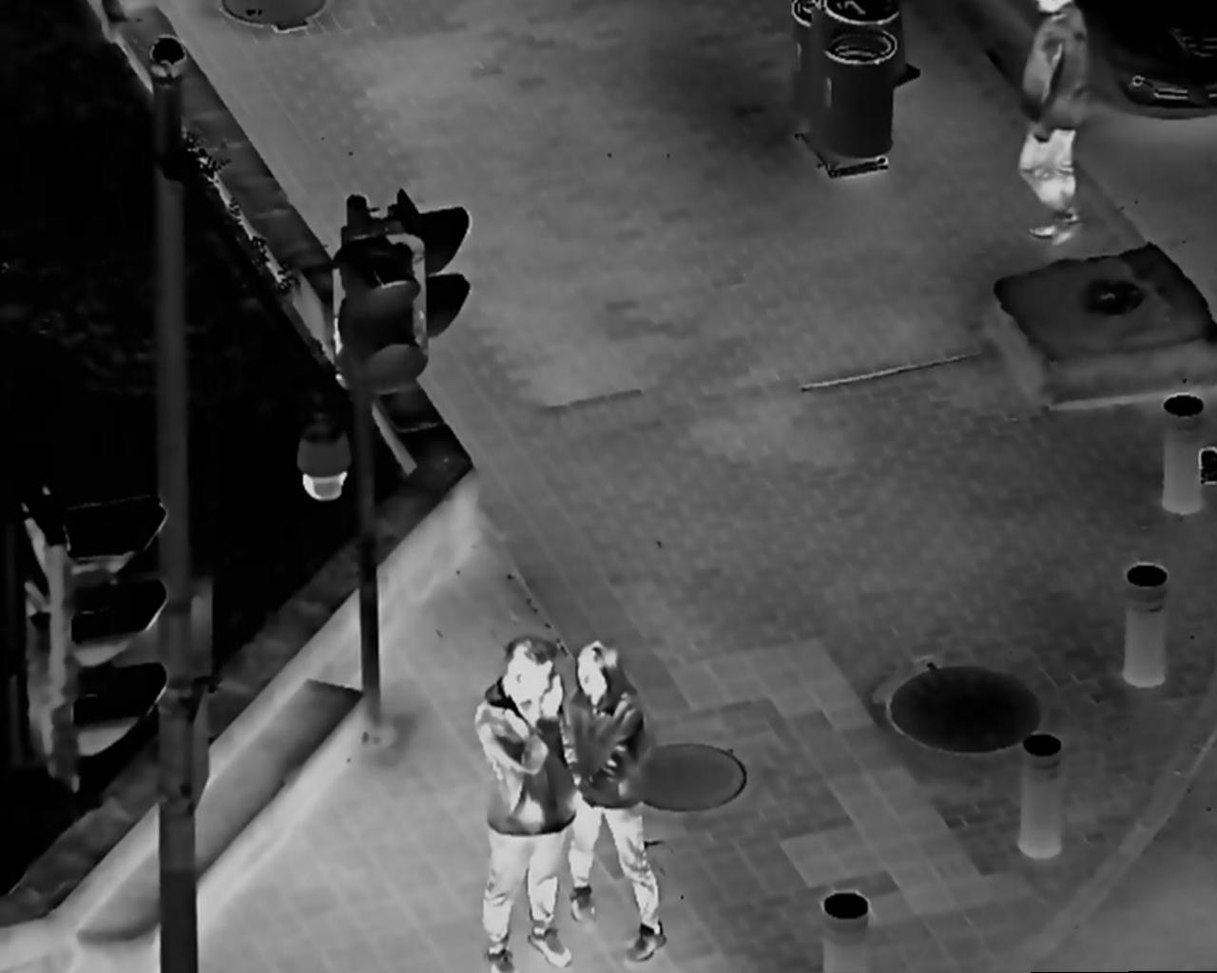person: (472, 634, 577, 973), (566, 639, 675, 964)
